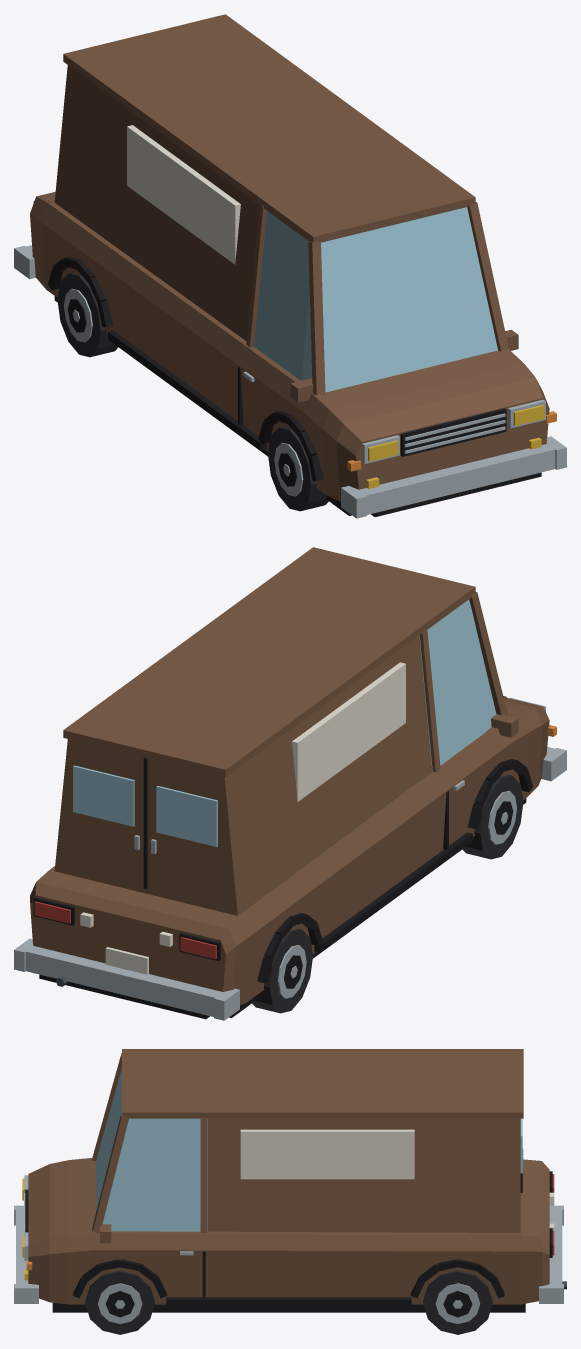
Rendered from GV_Van_Brown_01.glb.
3 renders of one model, top to bottom at view 1: azimuth 30°, elevation 25°; view 2: azimuth 150°, elevation 25°; view 3: azimuth 270°, elevation 25°, orthographic. The views are drawn at different scales.
Parts seen in each view (by area): view 1: GV_Van_Brown_01; view 2: GV_Van_Brown_01; view 3: GV_Van_Brown_01.
Part boxes in pixels (x1,y1,x2,y2): GV_Van_Brown_01: (14, 14, 566, 518); GV_Van_Brown_01: (14, 547, 566, 1020); GV_Van_Brown_01: (14, 1049, 566, 1334).
Bounding box in the file's own units: 2.12 × 2.43 × 5.73.
1 material, 1 textured.
